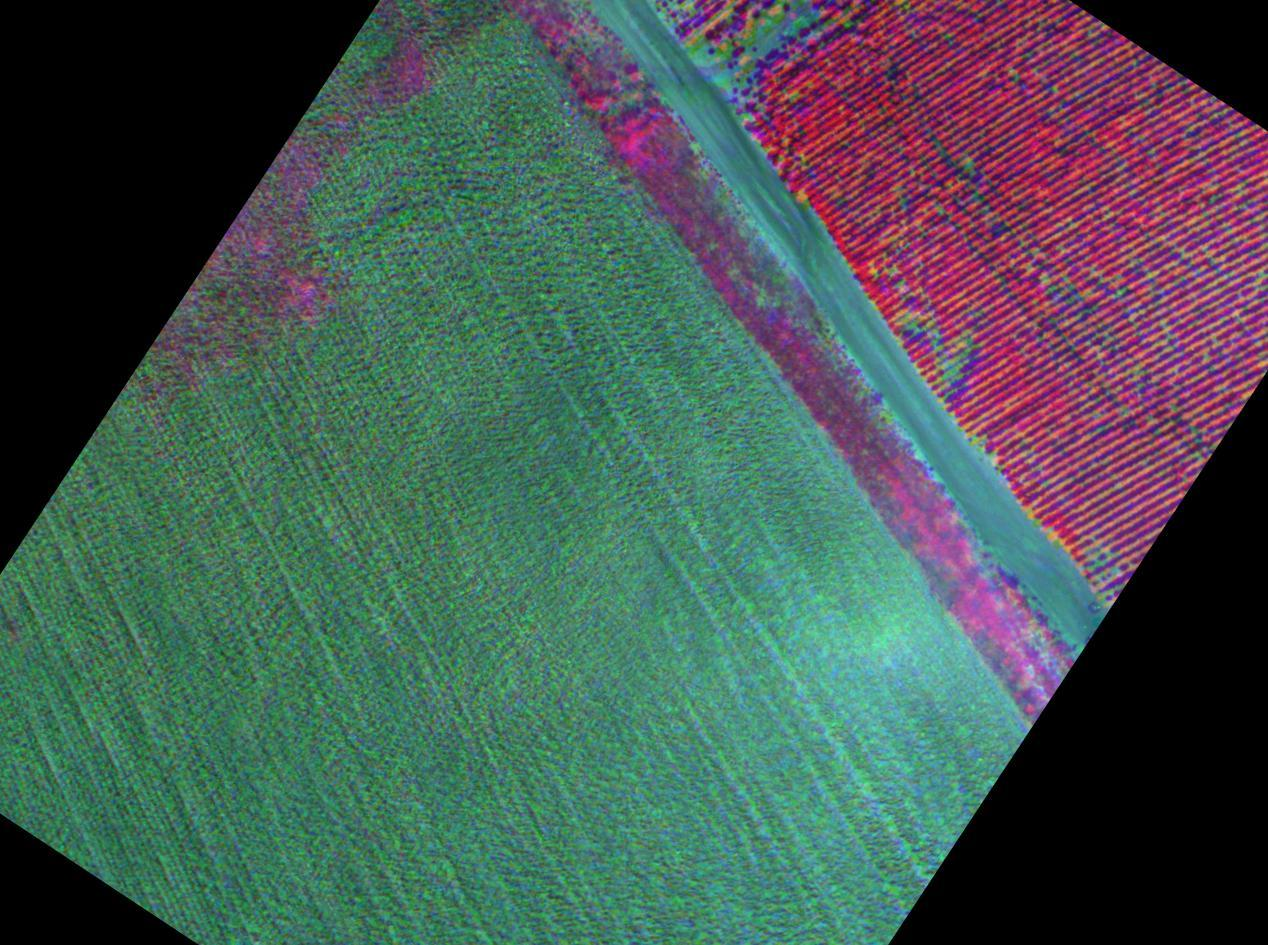dc: (966, 163, 973, 170), (1117, 291, 1123, 296), (845, 22, 850, 27), (899, 283, 904, 288), (1042, 277, 1048, 280), (791, 94, 797, 97)
